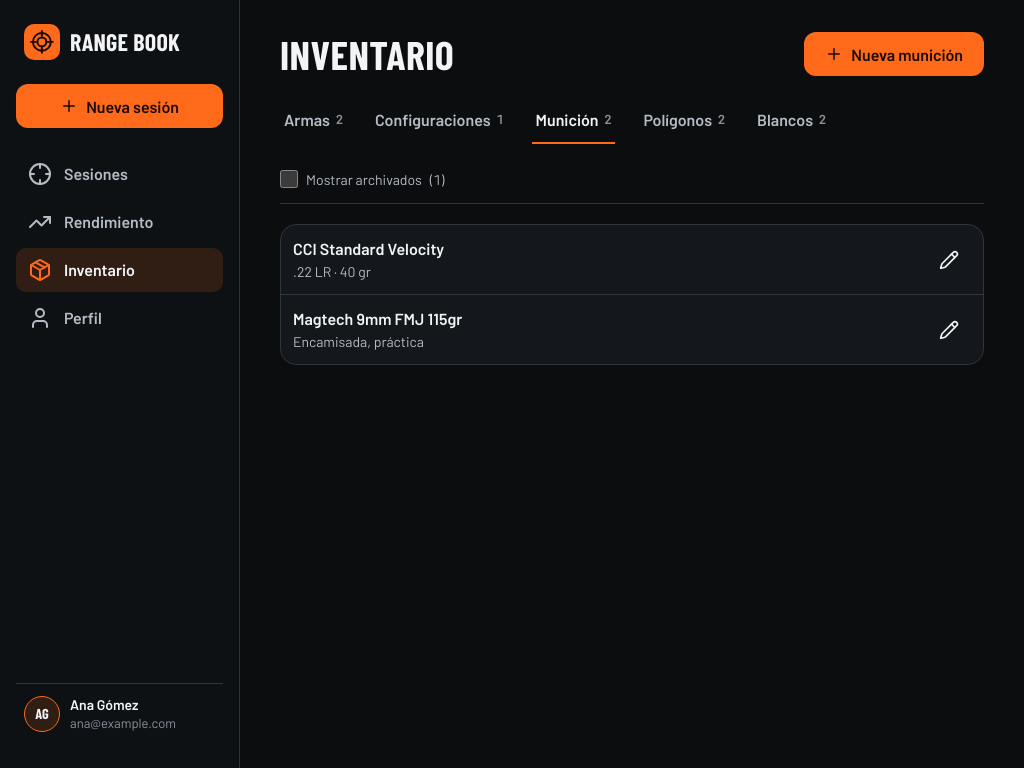
Scenario: InventoryScreen › cambiar de categoría cambia la URL y el botón primario
Expected: the link "Nueva munición" is shown, x1=804 y1=32 x2=984 y2=76
Click the tab "Polígonos 2": (684, 120) x1=640 y1=96 x2=729 y2=144
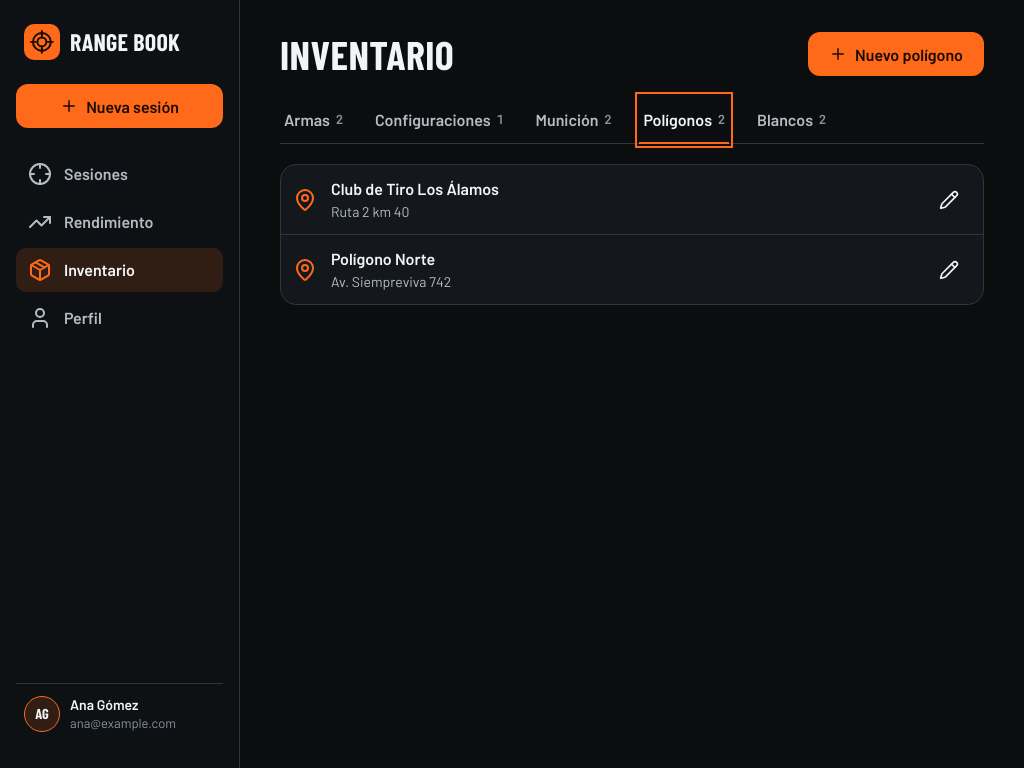
Now the link "Nuevo polígono" is shown, box x1=808 y1=32 x2=984 y2=76
